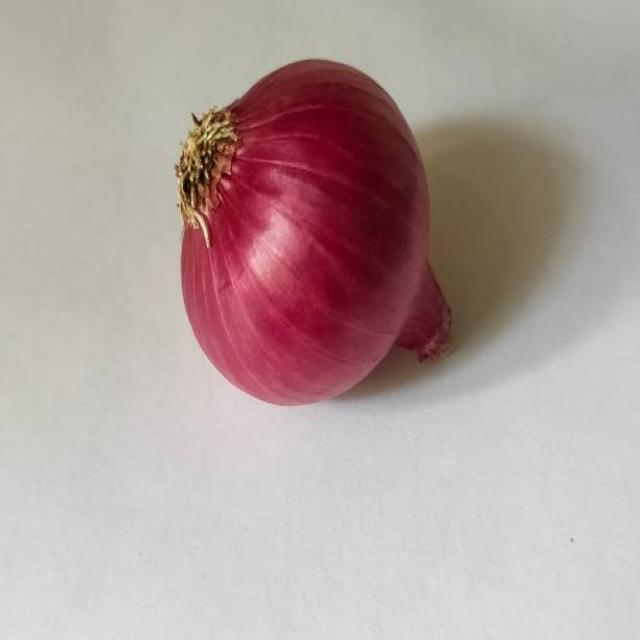onion: (169, 54, 445, 416)
